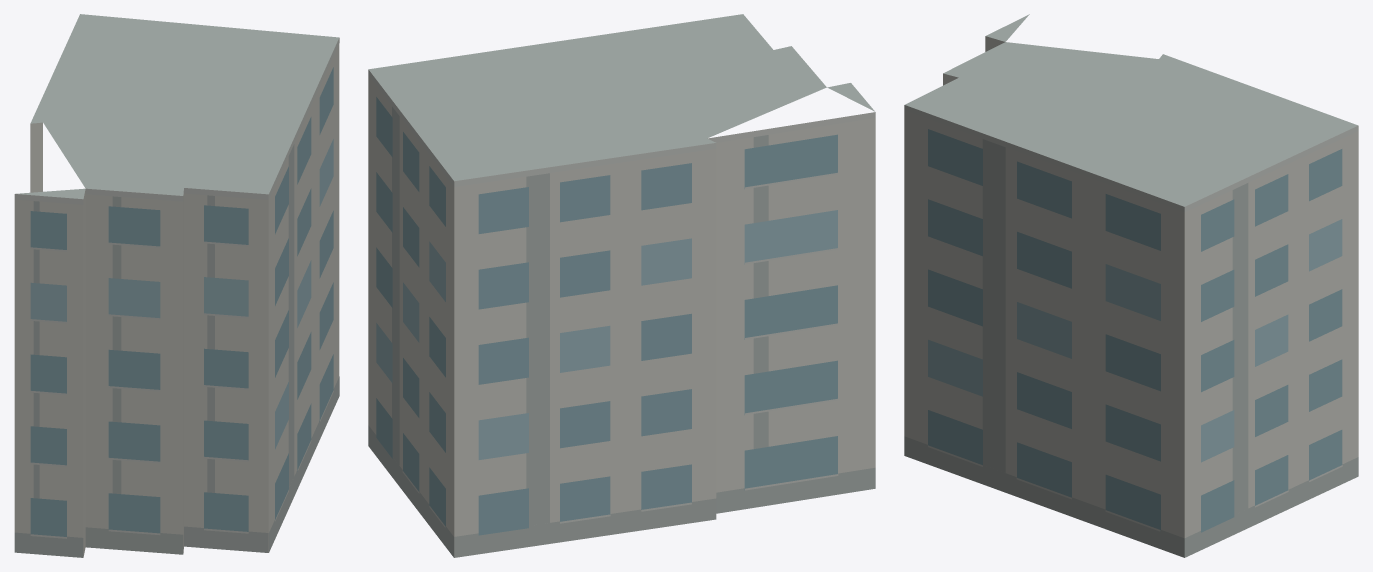
The model's file is survey-upis-32883145.glb.
3 renders of one model, left to right at view 1: azimuth 30°, elevation 25°; view 2: azimuth 150°, elevation 25°; view 3: azimuth 270°, elevation 25°, orthographic. The views are drawn at different scales.
Parts seen in each view (by area): view 1: survey-upis-32883145.tmp; view 2: survey-upis-32883145.tmp; view 3: survey-upis-32883145.tmp.
Part boxes in pixels (left/top/right/bottom): survey-upis-32883145.tmp: left=14, top=14, right=339, bottom=557; survey-upis-32883145.tmp: left=368, top=14, right=875, bottom=557; survey-upis-32883145.tmp: left=904, top=14, right=1358, bottom=557.
Size of the model in its own units: 17.98 by 15.25 by 17.89.
